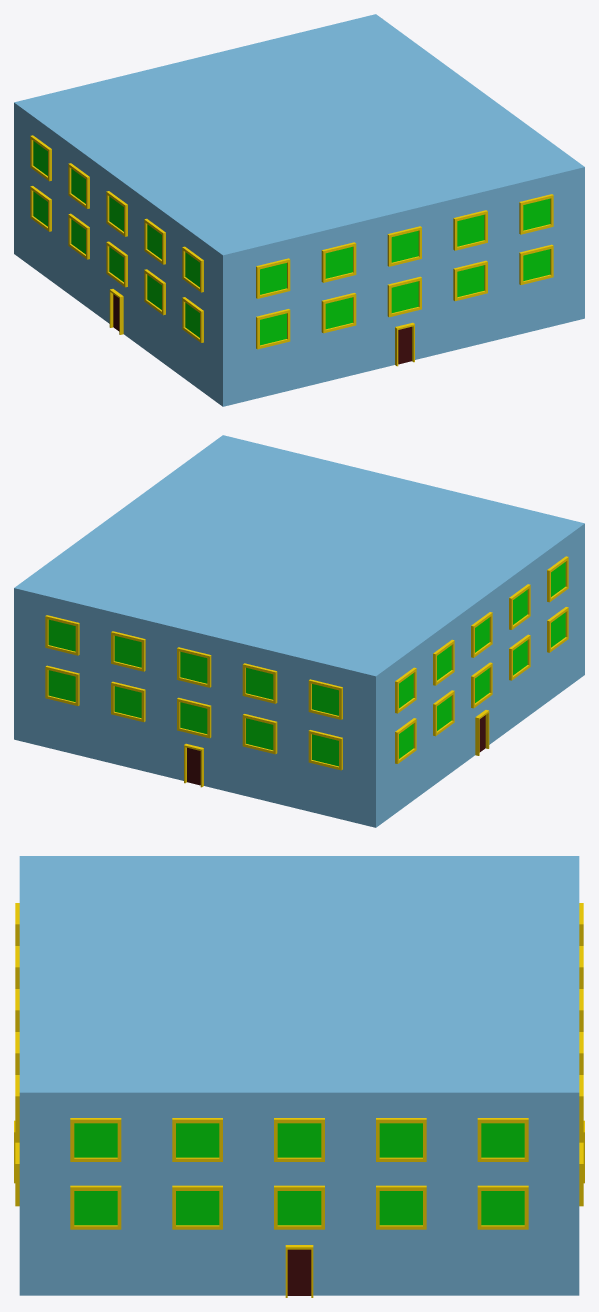
Rendered from Building_25x25_bottom.fbx.
3 views of the same model, one above another, from view 1: azimuth 30°, elevation 25°; view 2: azimuth 150°, elevation 25°; view 3: azimuth 270°, elevation 25° (orthographic). The views are drawn at different scales.
Visible parts, largest first — view 1: Bottom_25x25, Bottom_25x25_cell.003, Bottom_25x25_cell.005, Bottom_25x25_cell.001, Mid_25x25_cell, Mid_25x25_cell.002, Bottom_25x25_cell.007, Mid_25x25_cell.003, Bottom_25x25_cell, Mid_25x25_cell.004, Mid_25x25_cell.005, Bottom_25x25_cell.002 (+23 smaller); view 2: Bottom_25x25, Bottom_25x25_cell.003, Mid_25x25_cell, Bottom_25x25_cell.007, Mid_25x25_cell.002, Bottom_25x25_cell.001, Mid_25x25_cell.005, Bottom_25x25_cell, Bottom_25x25_cell.002, Bottom_25x25_cell.005, Mid_25x25_cell.004, Bottom_25x25_cell.006 (+23 smaller); view 3: Bottom_25x25, Bottom_25x25_cell.005, Bottom_25x25_cell.003, Mid_25x25_cell.002, Mid_25x25_cell, Bottom_25x25_cell.007, Bottom_25x25_cell.004, Mid_25x25_cell.005, Bottom_25x25_cell.006, Mid_25x25_cell.004, Mid_25x25_cell.001, Mid_25x25_cell.003 (+12 smaller).
Part boxes in pixels (x1,y1,x2,y2): Bottom_25x25: (14, 14, 584, 406); Bottom_25x25_cell.003: (14, 55, 287, 323); Bottom_25x25_cell.005: (266, 83, 584, 359); Bottom_25x25_cell.001: (132, 147, 398, 322); Mid_25x25_cell: (119, 153, 508, 405); Mid_25x25_cell.002: (407, 83, 584, 223); Bottom_25x25_cell.007: (208, 14, 468, 82); Mid_25x25_cell.003: (430, 208, 584, 346); Bottom_25x25_cell: (125, 235, 415, 406); Mid_25x25_cell.004: (55, 92, 411, 153); Mid_25x25_cell.005: (308, 15, 467, 115); Bottom_25x25_cell.002: (14, 196, 88, 308); Bottom_25x25: (14, 435, 584, 827); Bottom_25x25_cell.003: (180, 562, 497, 771); Mid_25x25_cell: (282, 454, 584, 698); Bottom_25x25_cell.007: (14, 520, 182, 669); Mid_25x25_cell.002: (109, 435, 297, 525); Bottom_25x25_cell.001: (342, 488, 584, 625); Mid_25x25_cell.005: (14, 519, 205, 754); Bottom_25x25_cell: (485, 591, 584, 744); Bottom_25x25_cell.002: (193, 721, 437, 827); Bottom_25x25_cell.005: (121, 436, 408, 575); Mid_25x25_cell.004: (88, 505, 333, 791); Bottom_25x25_cell.006: (14, 668, 189, 777); Bottom_25x25: (19, 856, 579, 1295); Bottom_25x25_cell.005: (19, 950, 395, 1162); Bottom_25x25_cell.003: (263, 856, 579, 989); Mid_25x25_cell.002: (19, 1022, 398, 1295); Mid_25x25_cell: (19, 856, 306, 1038); Bottom_25x25_cell.007: (329, 982, 579, 1201); Bottom_25x25_cell.004: (19, 1124, 355, 1295); Mid_25x25_cell.005: (292, 1041, 579, 1295); Bottom_25x25_cell.006: (329, 1190, 578, 1295); Mid_25x25_cell.004: (229, 882, 577, 1036); Mid_25x25_cell.001: (305, 856, 579, 881); Mid_25x25_cell.003: (19, 1172, 121, 1295).
Size of the model in its own units: 25.5 by 10 by 25.5.
